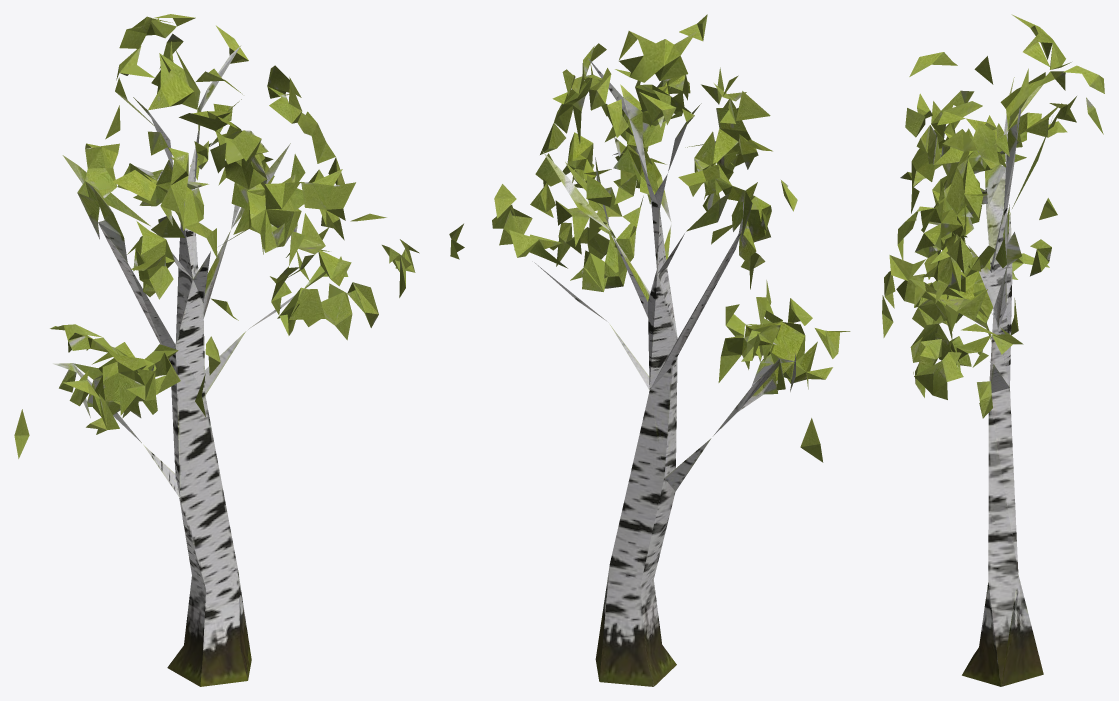
Rendered from tree_birch.glb.
The picture shows the model from 3 angles, left to right: view 1: azimuth 30°, elevation 25°; view 2: azimuth 150°, elevation 25°; view 3: azimuth 270°, elevation 25°; orthographic projection. The views are drawn at different scales.
Parts seen in each view (by area): view 1: Mesh_0; view 2: Mesh_0; view 3: Mesh_0.
Part boxes in pixels (box(x1,y1,x2,y2)): Mesh_0: box(14, 14, 419, 686); Mesh_0: box(449, 14, 850, 686); Mesh_0: box(882, 14, 1104, 686).
Size of the model in its own units: 1.14 by 1.84 by 0.594.
Materials: 1 (1 with a texture image).
